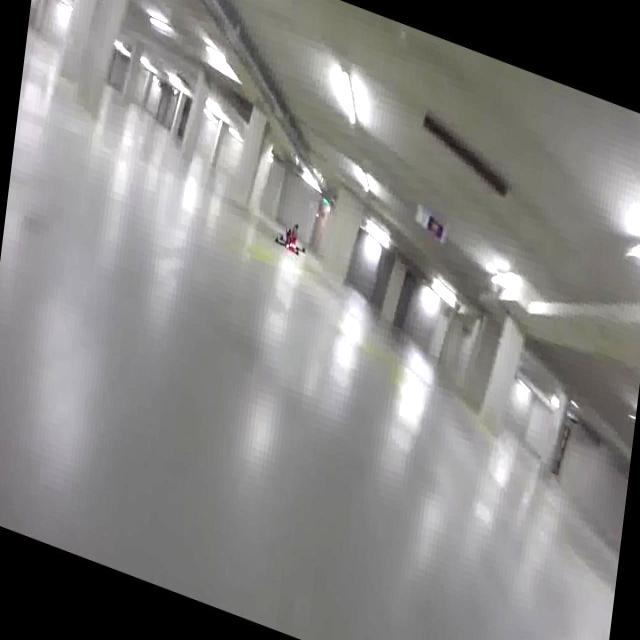drone: (270, 216, 308, 261)
